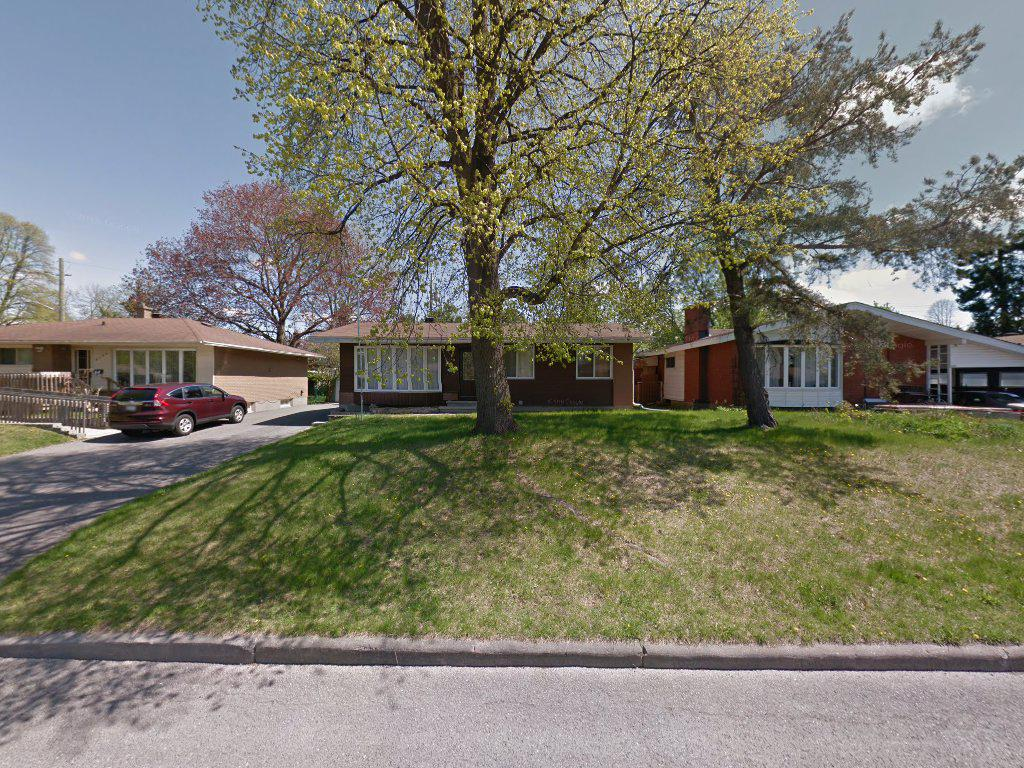trunk: (457, 172, 514, 454), (720, 271, 776, 433)
